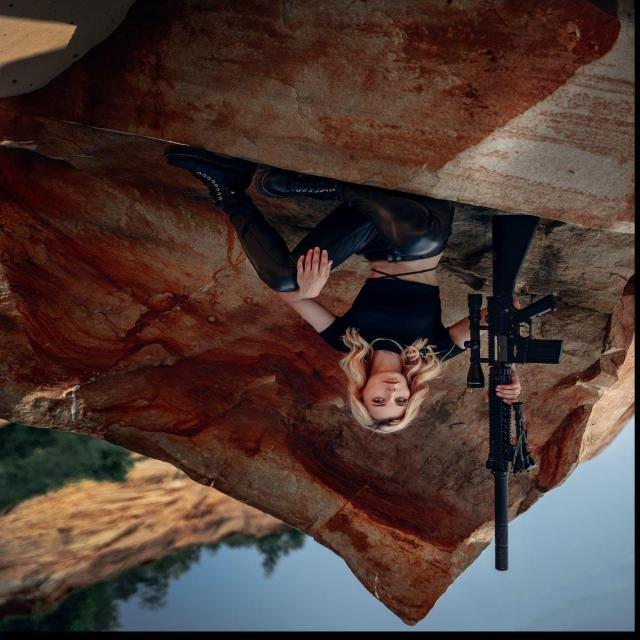weapon: (466, 214, 566, 572)
